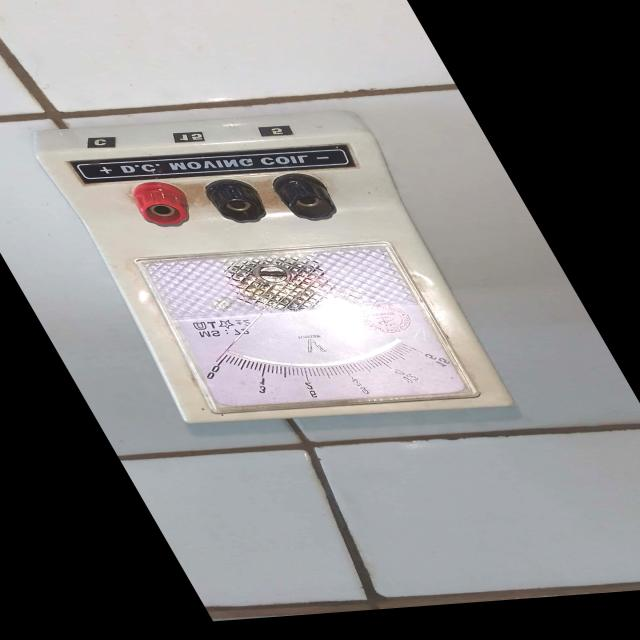Analog Voltmeter: (0, 89, 566, 447)
